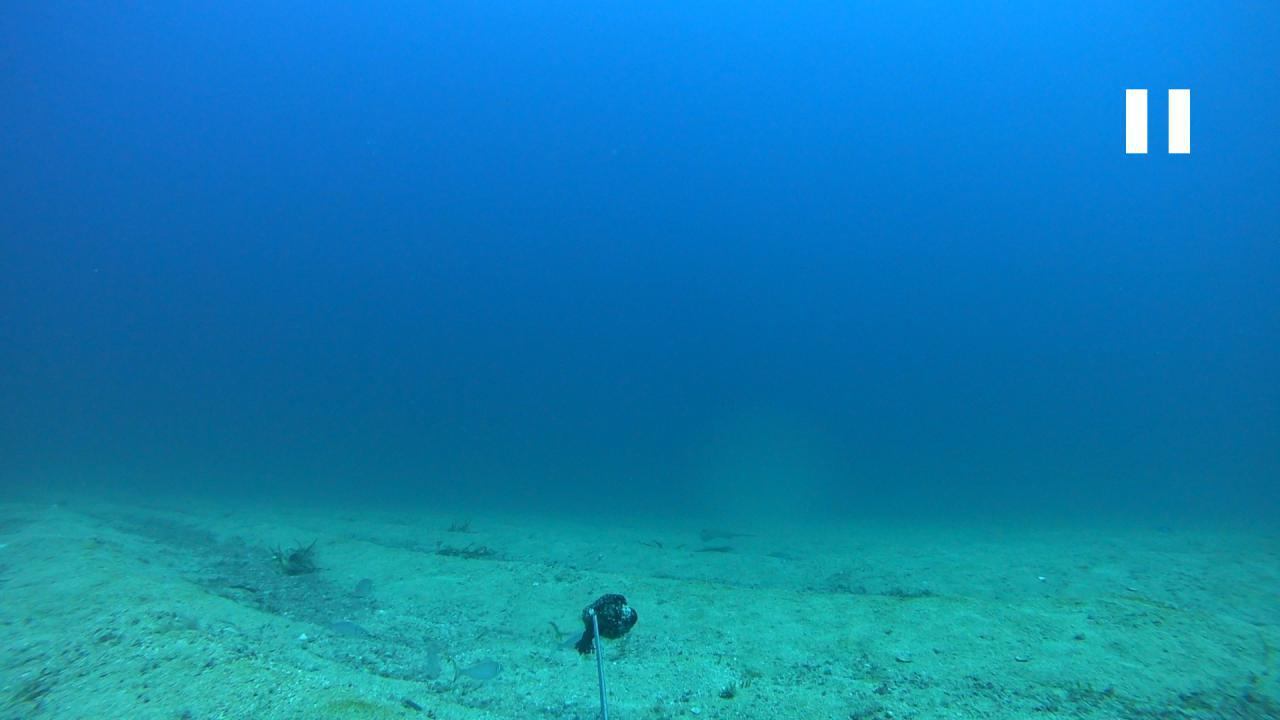dasyatis: (698, 524, 759, 544)
pagellus: (324, 616, 374, 641), (452, 661, 508, 683), (354, 574, 374, 602)
